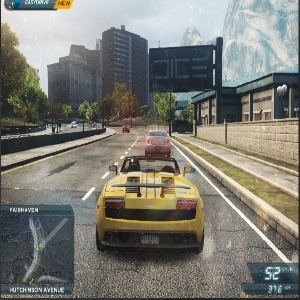ad: (149, 47, 214, 90)
building: (192, 78, 300, 136), (100, 26, 150, 126), (48, 46, 105, 120)
tree: (1, 27, 48, 127), (109, 84, 140, 126), (153, 95, 175, 127), (50, 103, 73, 119), (79, 102, 97, 120)
vehicle: (144, 128, 173, 155), (118, 123, 131, 134), (71, 119, 80, 131)
